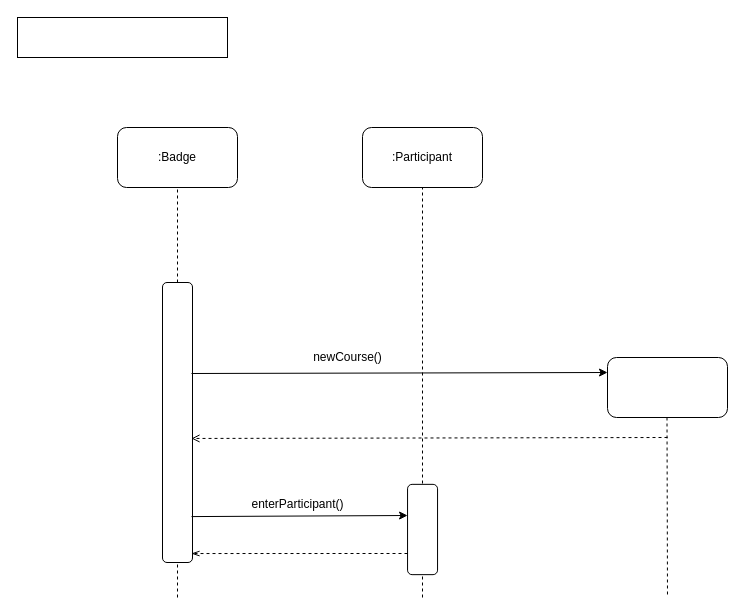
This 745x616 diagram has some shape labels left out. The shapes that lost their labels are listed below. From the top down, each one's box as (x1, y1, x2, y2) in pixels, then its label:
(16, 16, 228, 58): sd AddCourse
(606, 356, 728, 418): :Course
